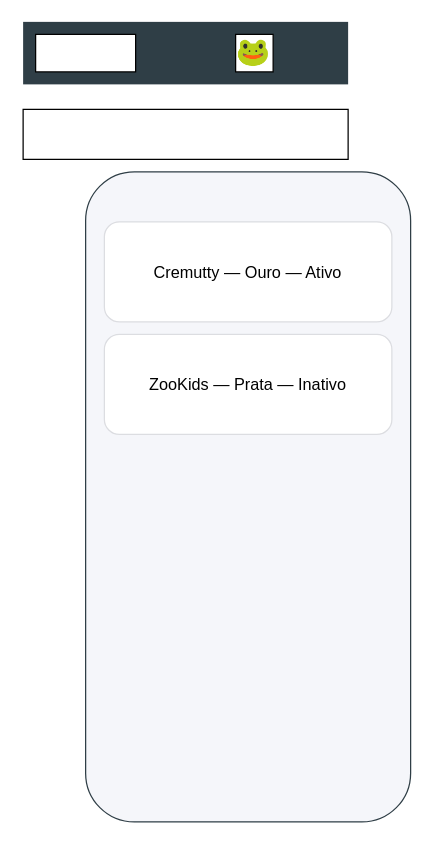
The diagram is 433 pixels wide and 844 high, and some of its shapes have lost their labels. The centre of each missing label's shape, as x and y in pixels:
"LOGO Animalec" goes at (x=85, y=52).
"PATROCINADORES (Mobile)" goes at (x=185, y=133).
